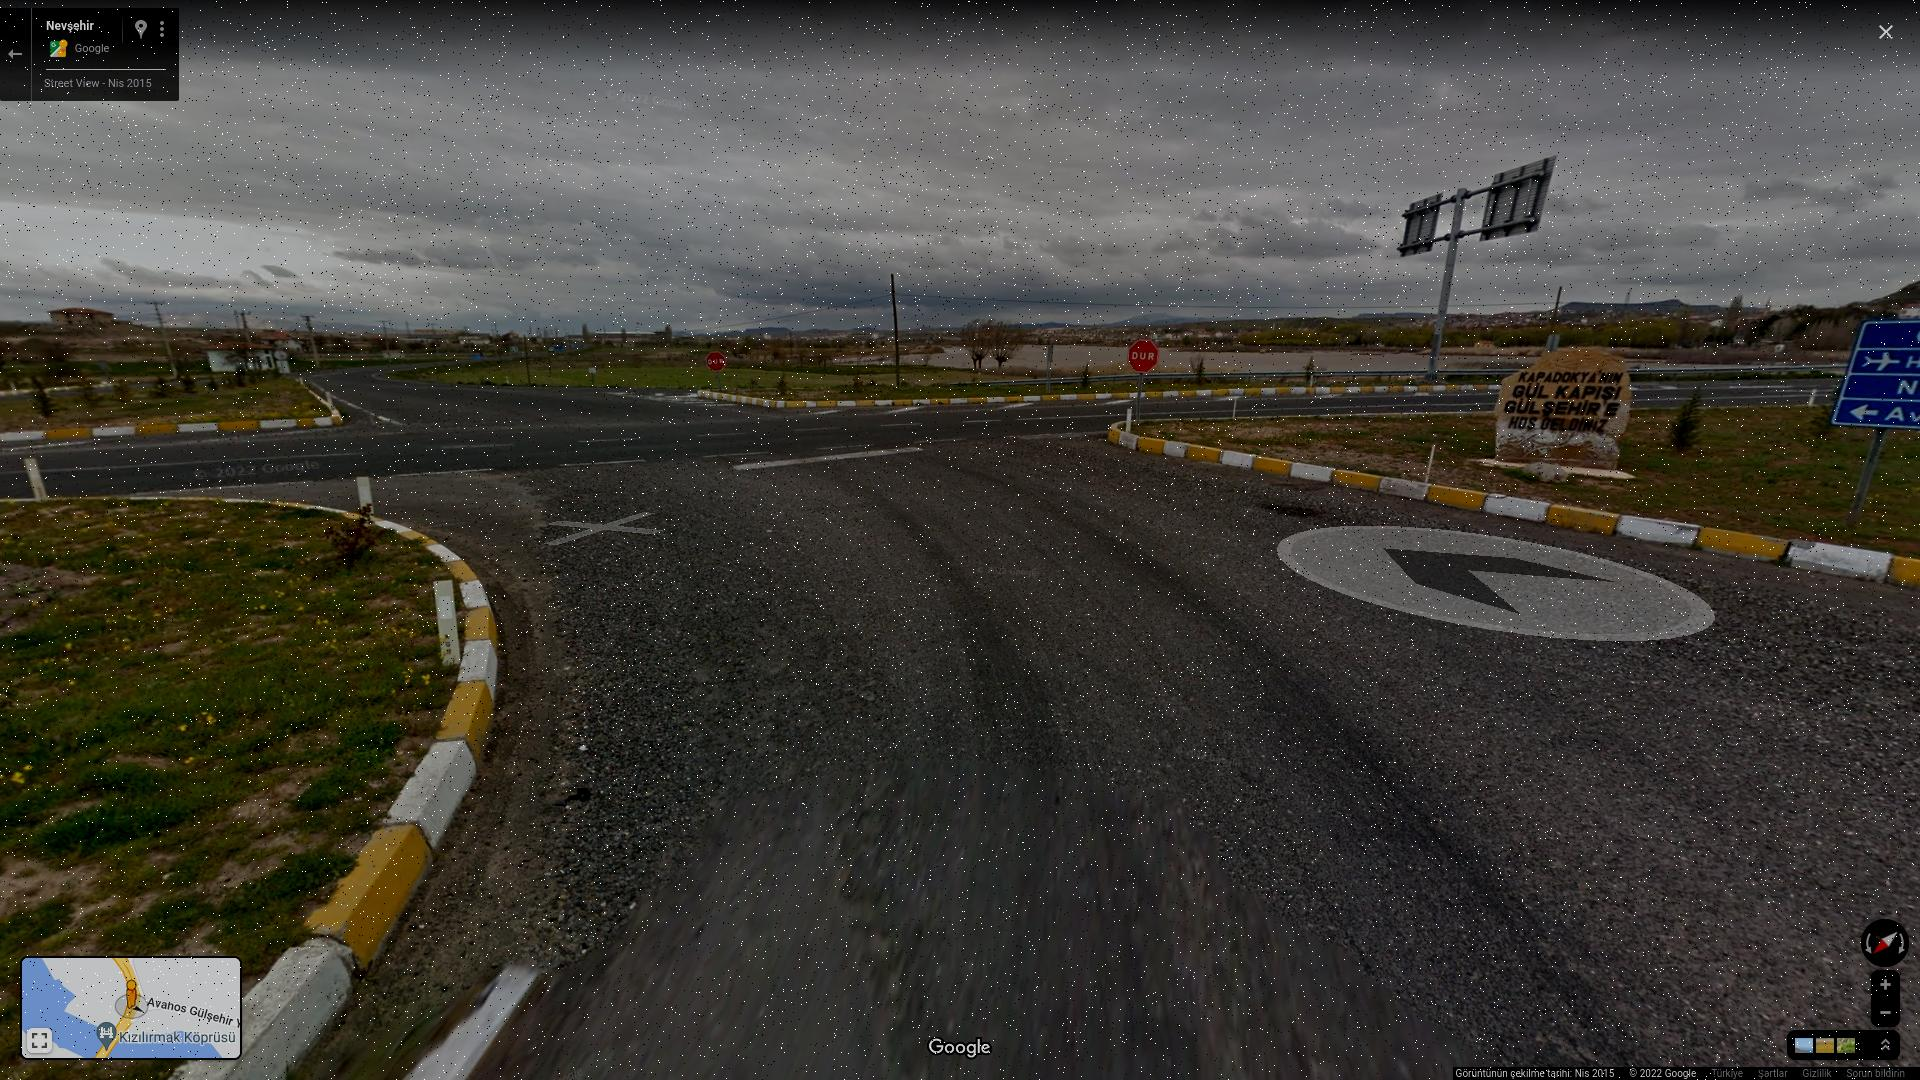stop: (1127, 338, 1159, 375), (705, 351, 727, 371)
